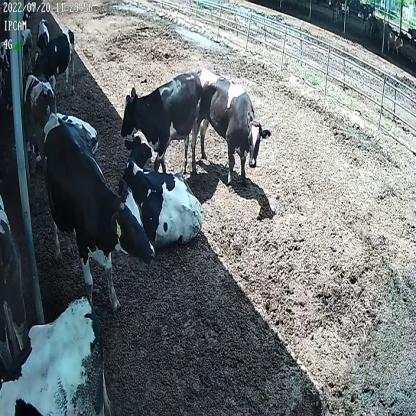cow: (40, 110, 156, 314), (119, 128, 204, 248), (118, 68, 202, 182), (198, 61, 274, 185), (30, 26, 77, 92), (36, 16, 50, 53)
